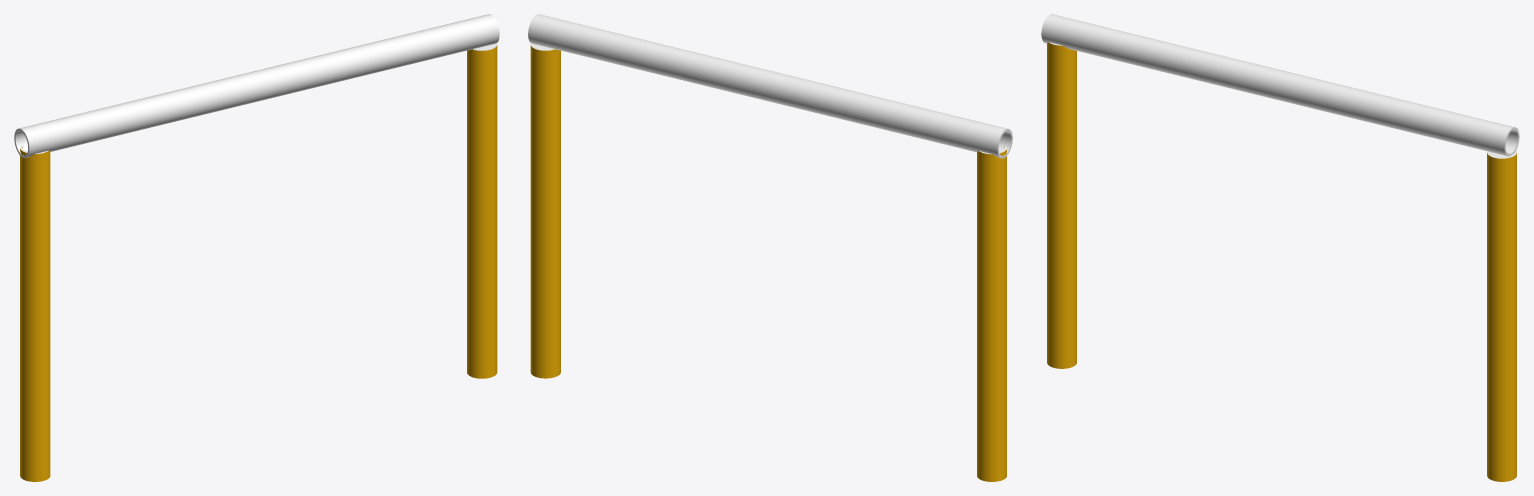
The model's file is gate.dae.
3 renders of one model, left to right at view 1: azimuth 30°, elevation 25°; view 2: azimuth 150°, elevation 25°; view 3: azimuth 330°, elevation 25°, orthographic.
Parts seen in each view (by area): view 1: SketchUp.003, SketchUp, SketchUp.005; view 2: SketchUp.003, SketchUp, SketchUp.005; view 3: SketchUp.003, SketchUp, SketchUp.005.
Part boxes in pixels (box(x1,y1,x2,y2)): SketchUp.003: box(14, 14, 499, 158); SketchUp: box(467, 45, 497, 378); SketchUp.005: box(20, 149, 50, 481); SketchUp.003: box(528, 14, 1012, 158); SketchUp: box(530, 45, 560, 378); SketchUp.005: box(977, 149, 1006, 481); SketchUp.003: box(1041, 14, 1519, 156); SketchUp: box(1487, 153, 1516, 481); SketchUp.005: box(1047, 42, 1076, 368).
Bounding box in the file's own units: 1.51 × 0.0855 × 1.08.
